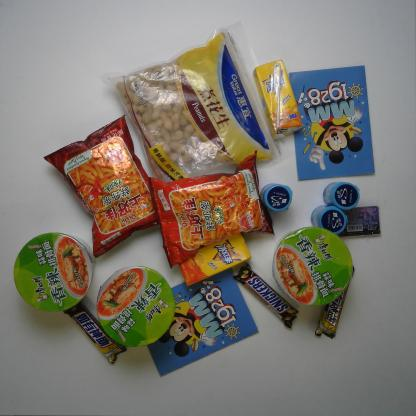Chocolate: (60, 295, 128, 366), (233, 262, 297, 330), (315, 262, 362, 343)
Dried Food: (101, 20, 286, 202)
Drink: (252, 53, 306, 142), (175, 227, 252, 287)
Gum: (332, 202, 382, 242), (309, 203, 351, 239), (322, 178, 362, 212), (255, 182, 296, 213)
Instant Noodles: (269, 222, 359, 310), (93, 261, 180, 351), (12, 228, 97, 315)
Puffed Food: (42, 112, 175, 261), (146, 148, 278, 272)
Stationery: (136, 263, 261, 378), (288, 63, 376, 182)
